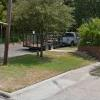Tree: (14, 2, 80, 52)
